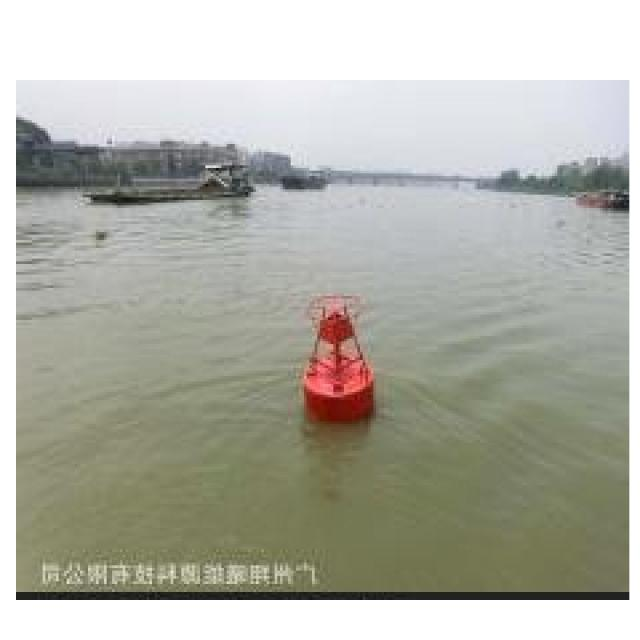buoy: (302, 291, 379, 420)
